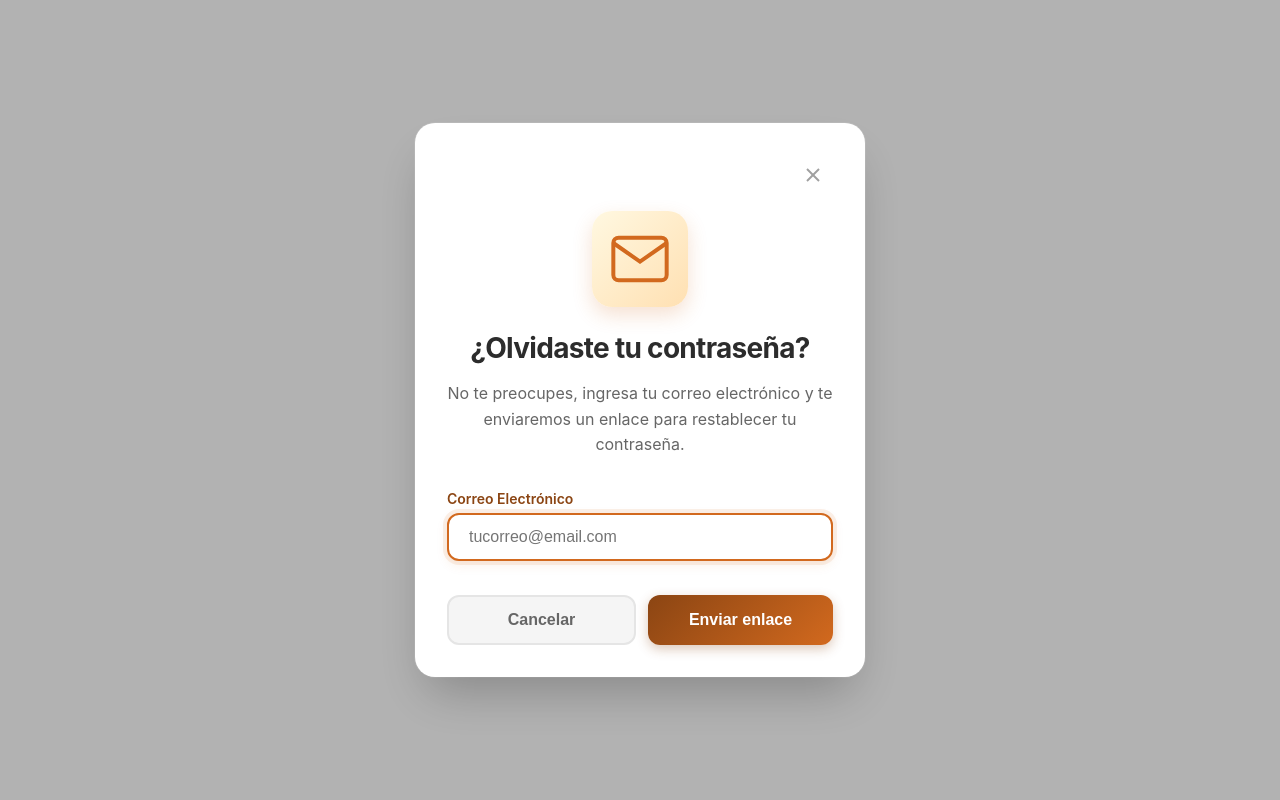
Scenario: ForgotPasswordModal › envía correo y muestra alerta de éxito
This screenshot has width=1280, height=800.
Step 1. Type "test@mail.com" into the field with placeholder "tucorreo@email.com" → (640, 537), box [447,513,833,561]
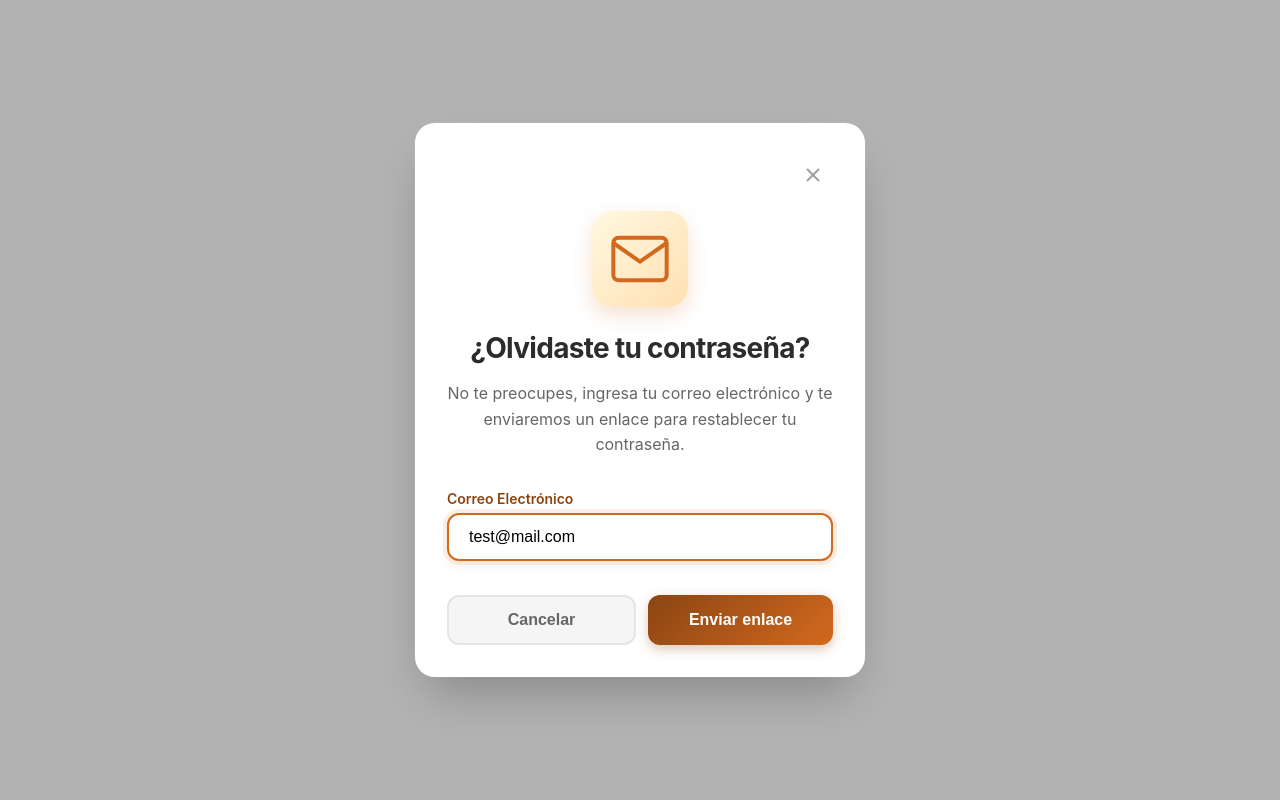
Step 2. Click the button "Enviar enlace" → (740, 620), box [648,595,833,645]
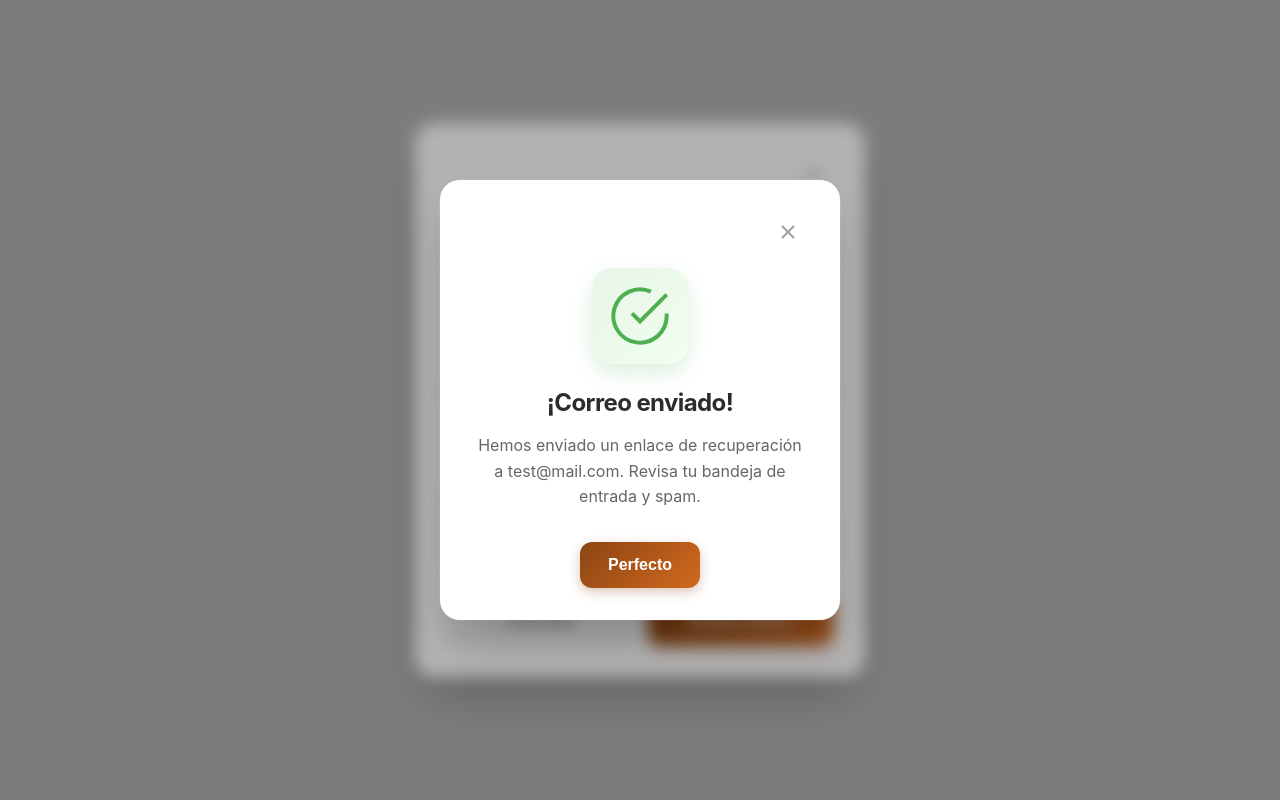
expect the heading "¡Correo enviado!" is shown: met, box [547,388,733,417]
expect the text "Hemos enviado un enlace de recuperación" is shown: met, box [478,435,802,506]
